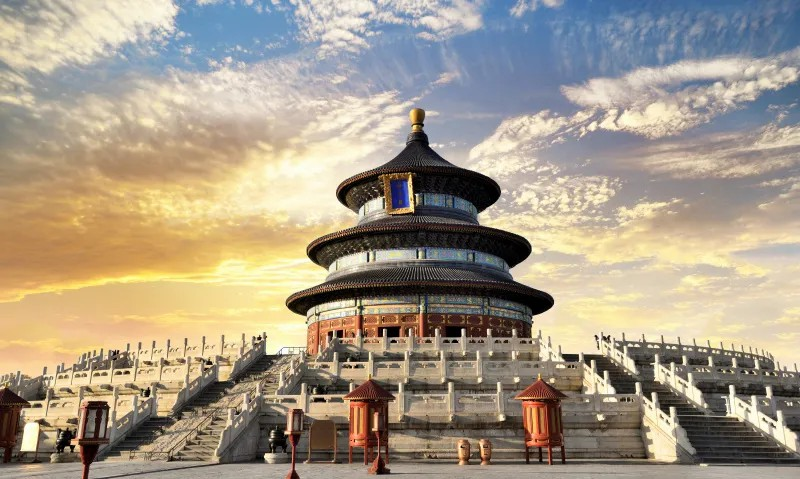Heaven: (285, 109, 559, 352)
